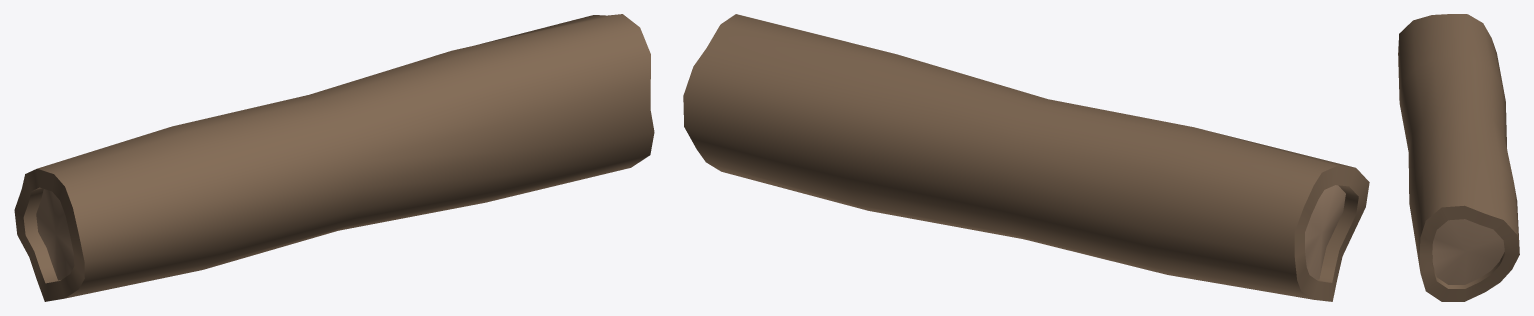
Rendered from P_Woodlog_04_LD.fbx.
The picture shows the model from 3 angles, left to right: view 1: azimuth 30°, elevation 25°; view 2: azimuth 150°, elevation 25°; view 3: azimuth 270°, elevation 25°; orthographic projection. The views are drawn at different scales.
Visible parts, largest first — view 1: P_Woodlog_04; view 2: P_Woodlog_04; view 3: P_Woodlog_04.
Part boxes in pixels (x1,y1,x2,y2): P_Woodlog_04: (14, 14, 654, 301); P_Woodlog_04: (683, 14, 1369, 301); P_Woodlog_04: (1398, 14, 1519, 301).
Bounding box in the file's own units: 71.02 × 16.32 × 17.92.
